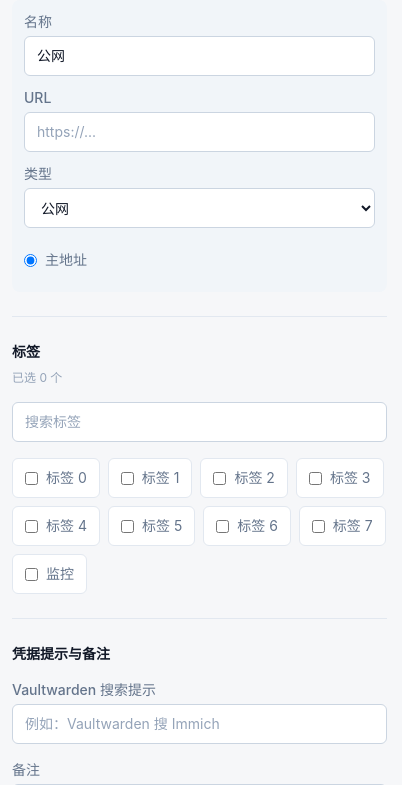
Test: ServiceEditorView › shows searchable compact tag selection when many tags exist
(page scrolled)
Type "monitor" into the search field named "搜索标签" at (200, 422), box [12,402,387,442]
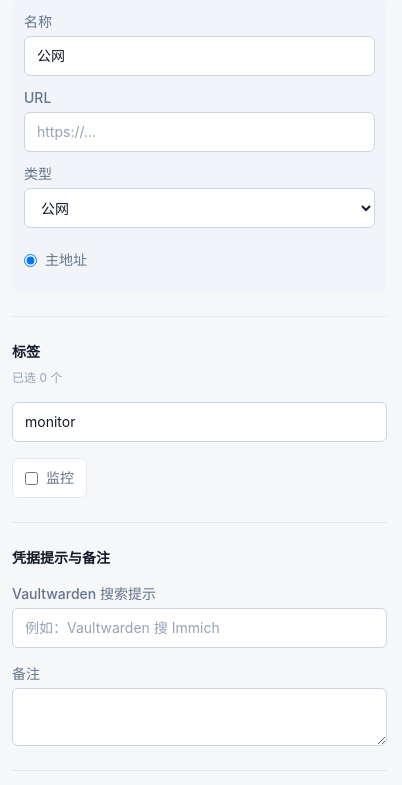
expect the text "监控" is shown: met, box [12,458,87,498]
expect the text "标签 1" is gone: met
